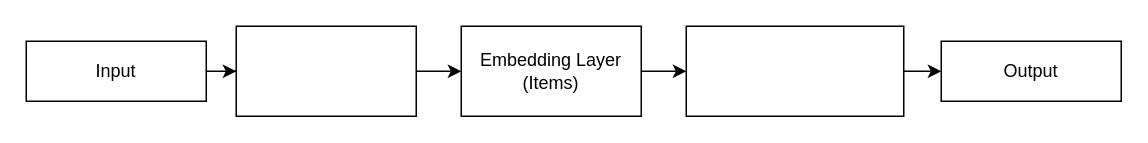
The diagram is 1148 pixels wide and 143 high, and some of its shapes have lost their labels. Here are the shapes that lost their labels. From the top down, the centre of each, then its label:
the point at 325,70: Embedding Layer (Users)
the point at 794,70: Similarity Computation using Collaborative Filtering
